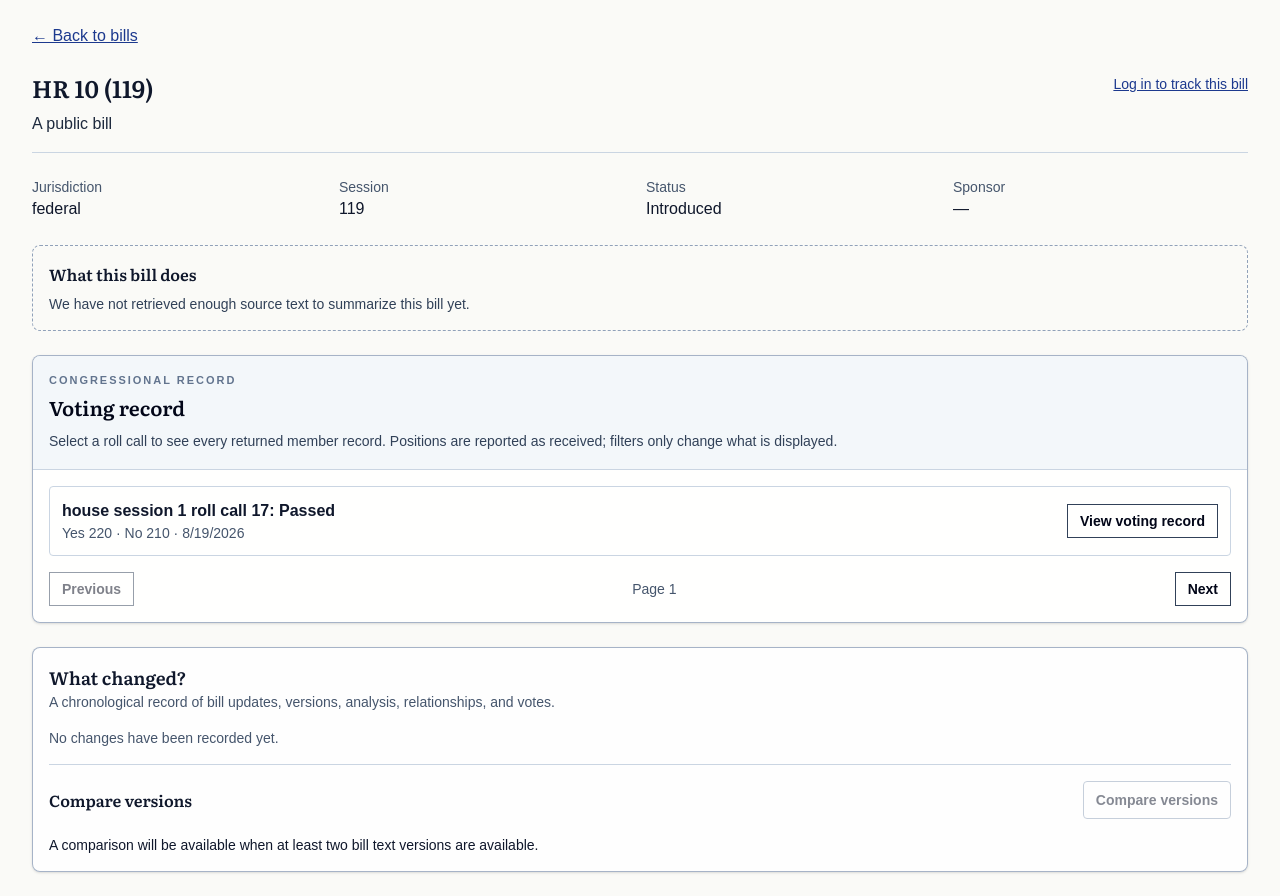
Test: BillDetailPage › clears selected member positions when the vote history page changes
Click the button "View voting record" at {"x": 1142, "y": 520}, box [1067, 504, 1218, 538]
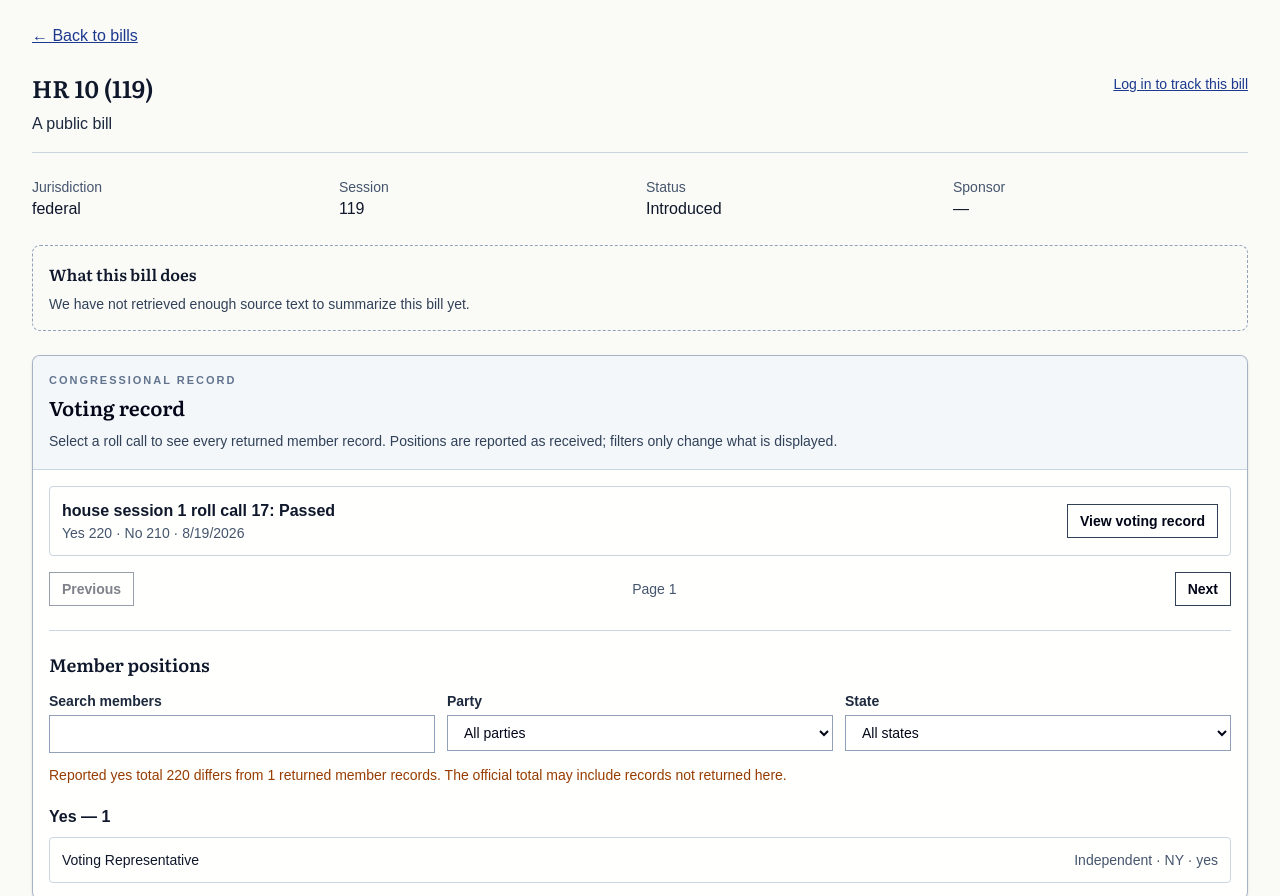
Check: the text "Voting Representative" is shown, box [62, 850, 199, 870]
Click the button with aria-label "Next vote history page" at {"x": 1203, "y": 588}, box [1175, 572, 1231, 606]
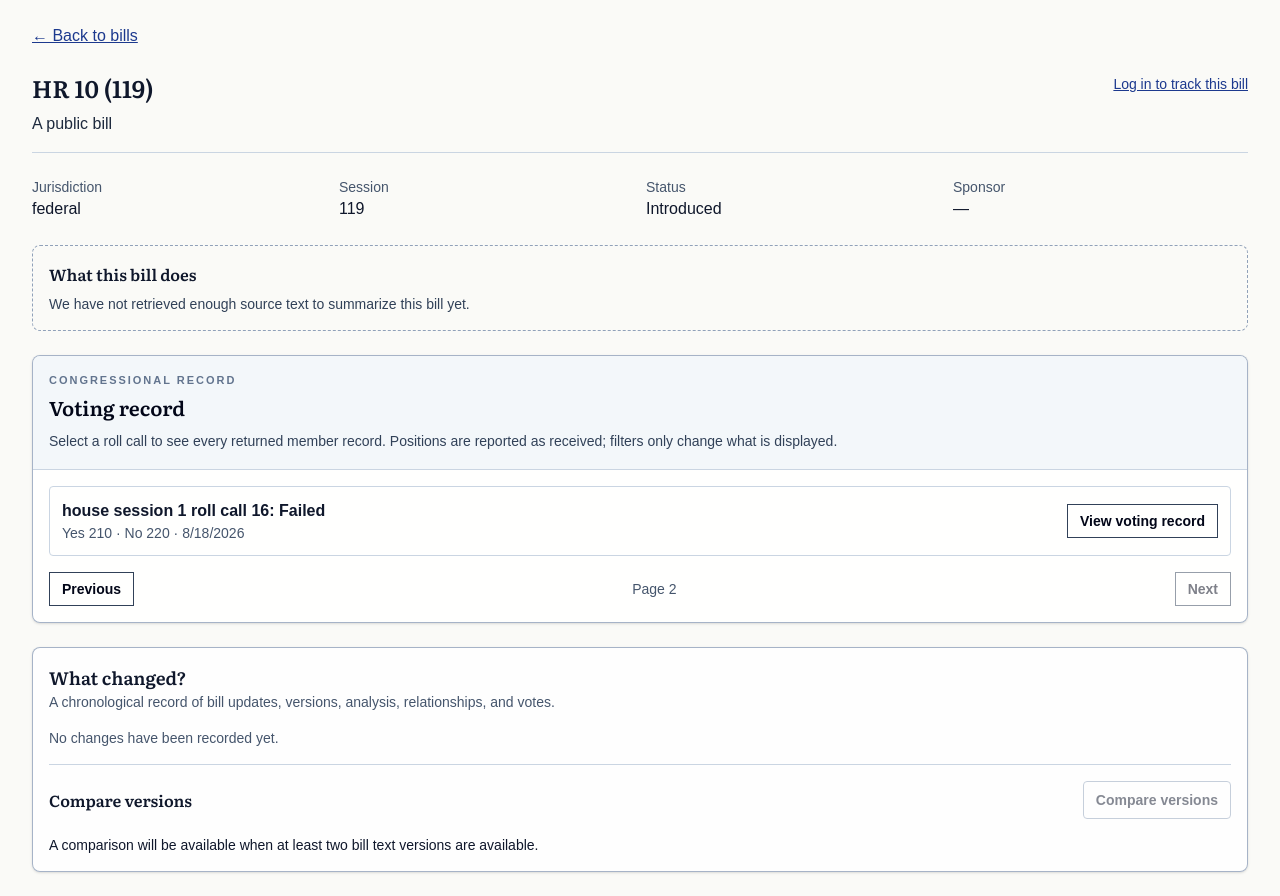
Check: the text "house session 1 roll call 16: Failed" is shown, box [62, 498, 325, 522]
Check: the text "Voting Representative" is gone
